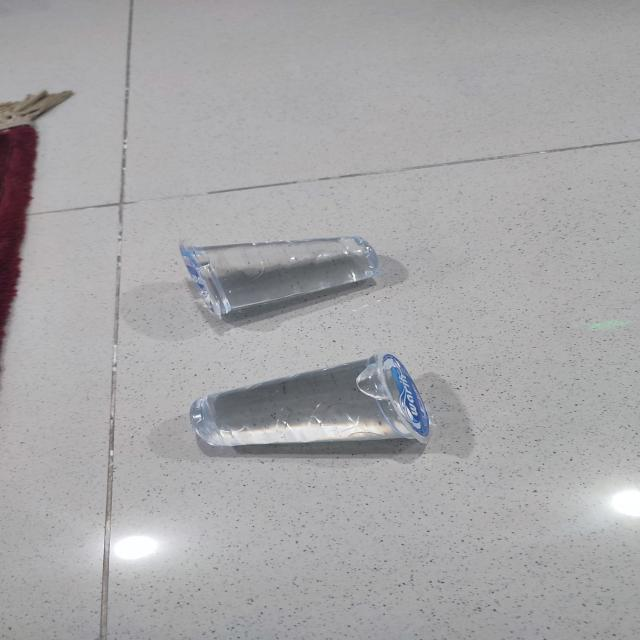air gelas: (178, 349, 440, 458), (162, 233, 395, 319)
